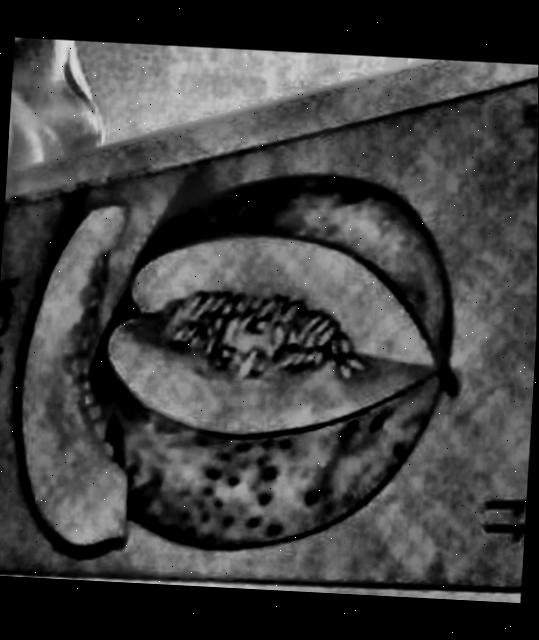El Melon: (0, 75, 539, 591)
